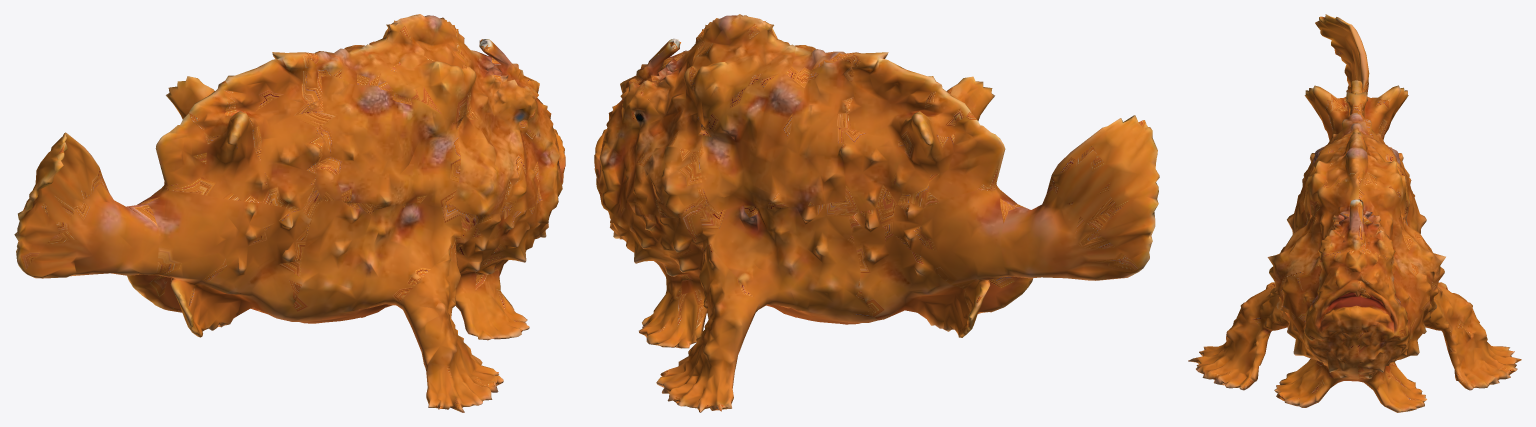
File: reuzenkikvorsvis.glb
3 views of the same model, side by side, from view 1: azimuth 30°, elevation 25°; view 2: azimuth 150°, elevation 25°; view 3: azimuth 270°, elevation 25° (orthographic). The views are drawn at different scales.
Visible parts, largest first — view 1: tripo_node_807c15d8-c269-4fe6-bbdd-0e7194978e6b; view 2: tripo_node_807c15d8-c269-4fe6-bbdd-0e7194978e6b; view 3: tripo_node_807c15d8-c269-4fe6-bbdd-0e7194978e6b.
Part boxes in pixels (x1,y1,x2,y2): tripo_node_807c15d8-c269-4fe6-bbdd-0e7194978e6b: (14, 14, 565, 412); tripo_node_807c15d8-c269-4fe6-bbdd-0e7194978e6b: (594, 14, 1159, 412); tripo_node_807c15d8-c269-4fe6-bbdd-0e7194978e6b: (1188, 14, 1521, 412).
Bounding box in the file's own units: 0.4584 × 0.2499 × 0.3039.
Materials: 1 (1 with a texture image).
